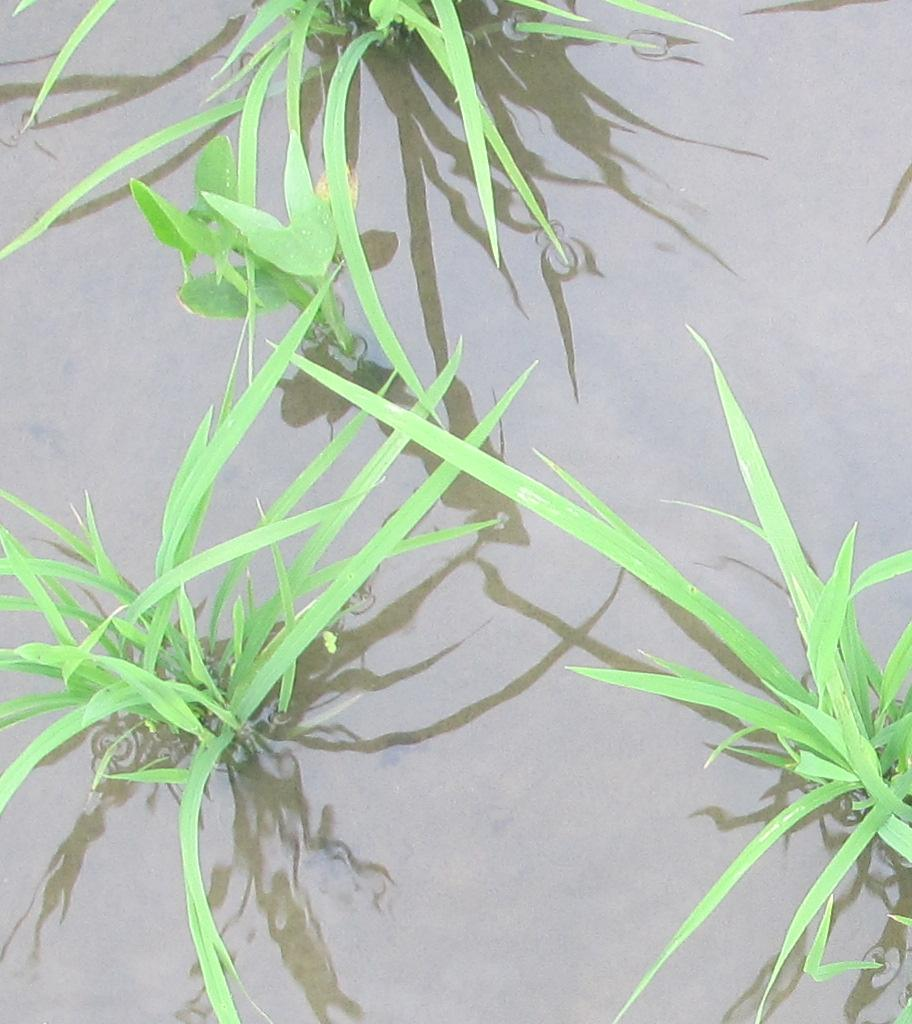Weed: (128, 164, 340, 310)
